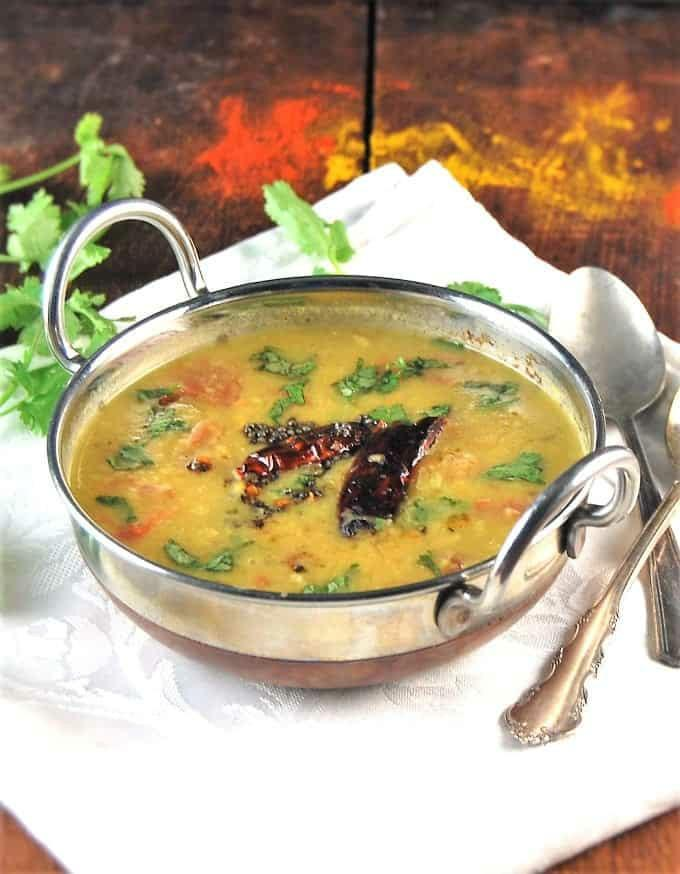Dal: (71, 325, 570, 582)
